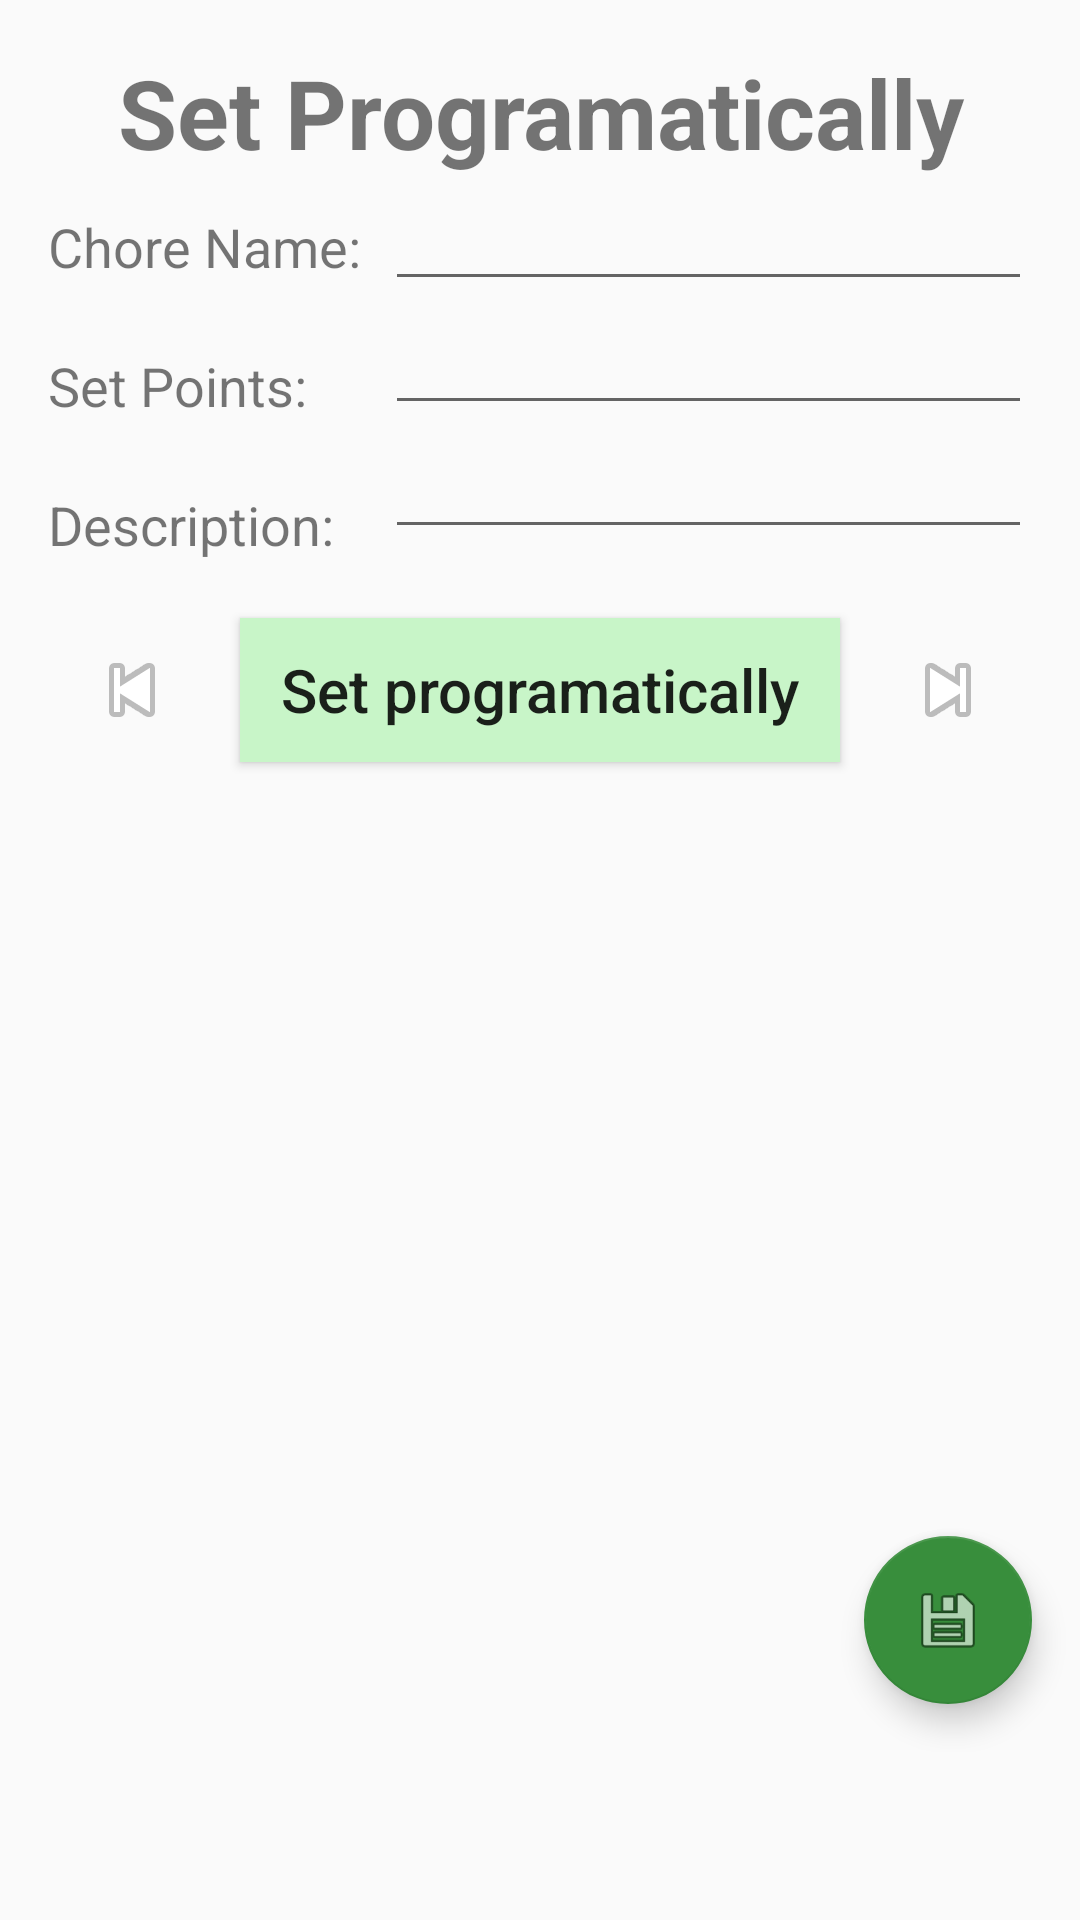

Point at icon controls on the screen. Image size 1080 × 1920, points as (x=x, y=y).
next: (x=948, y=690)
previous: (x=132, y=690)
save: (x=948, y=1620)
